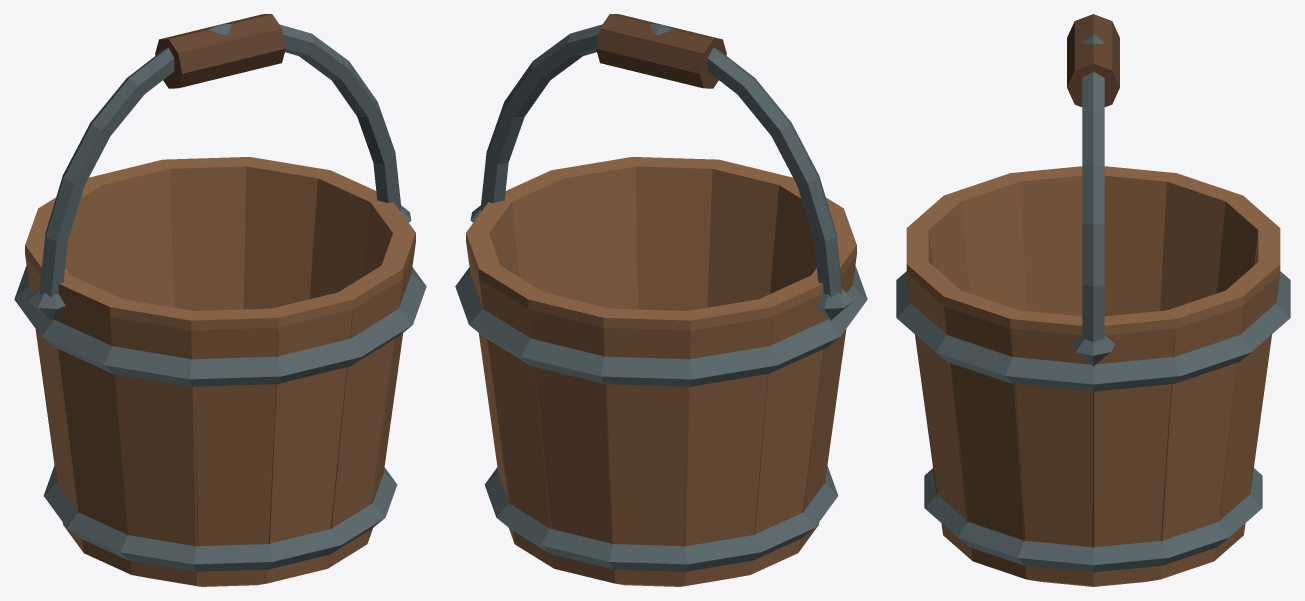
File: milk_pail.glb
3 views of the same model, side by side, from view 1: azimuth 30°, elevation 25°; view 2: azimuth 150°, elevation 25°; view 3: azimuth 270°, elevation 25° (orthographic). The views are drawn at different scales.
Visible parts, largest first — view 1: geometry; view 2: geometry; view 3: geometry.
Part boxes in pixels (<box>): geometry: <box>14,14,426,586</box>; geometry: <box>455,14,867,586</box>; geometry: <box>896,14,1290,586</box>.
Size of the model in its own units: 0.3999 by 0.517 by 0.3705.
